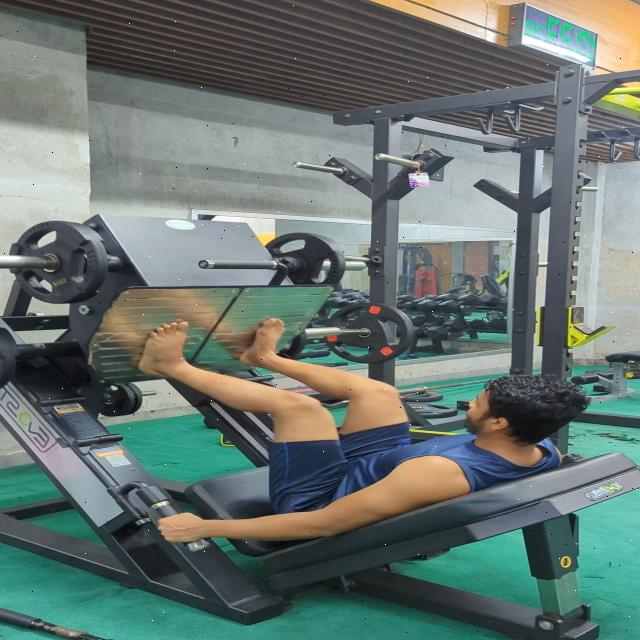Normal_LegPress: (112, 312, 604, 553)
